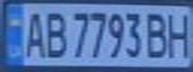3: (124, 9, 145, 60)
7: (66, 8, 90, 59), (87, 8, 109, 59)
9: (106, 8, 127, 59)
A: (18, 7, 48, 58)
B: (142, 9, 172, 60), (42, 8, 69, 60)
H: (163, 9, 193, 58)
